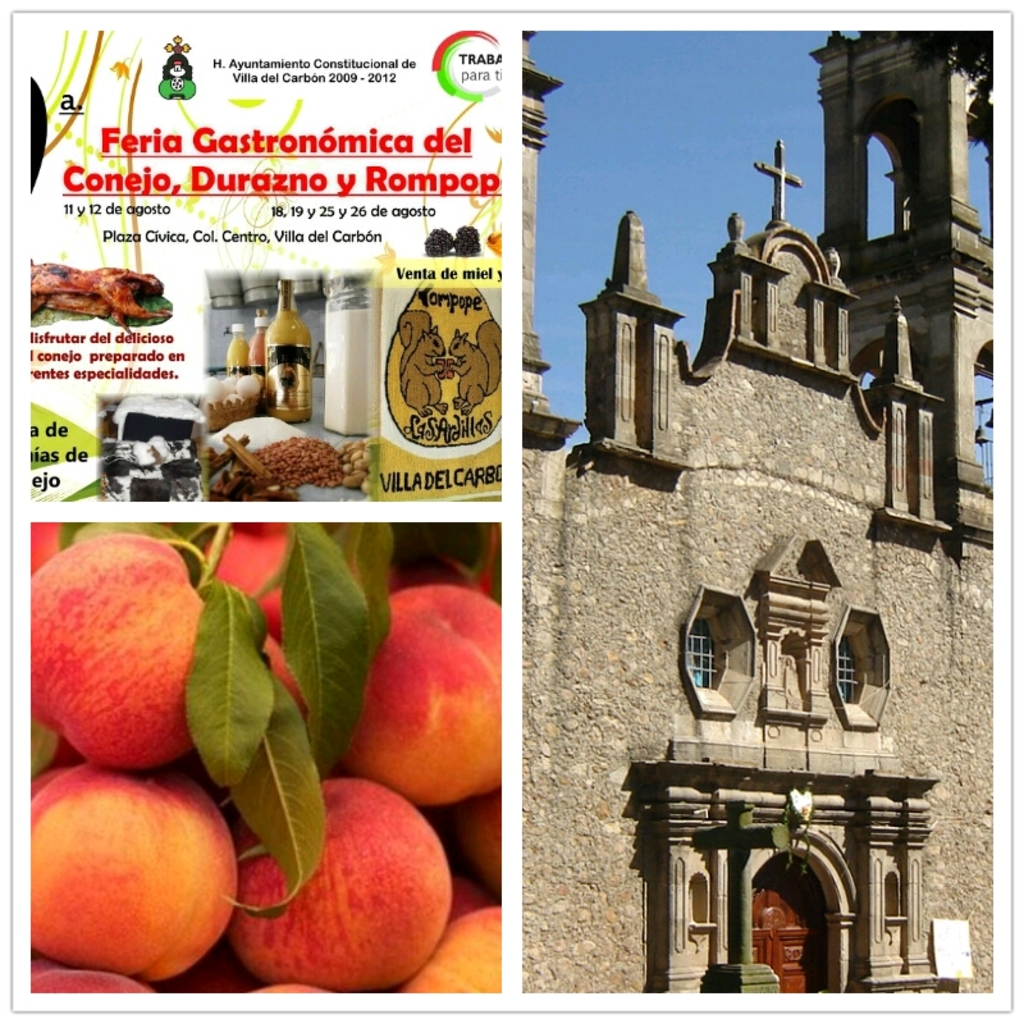Apple: (26, 518, 504, 992), (330, 593, 500, 821)
